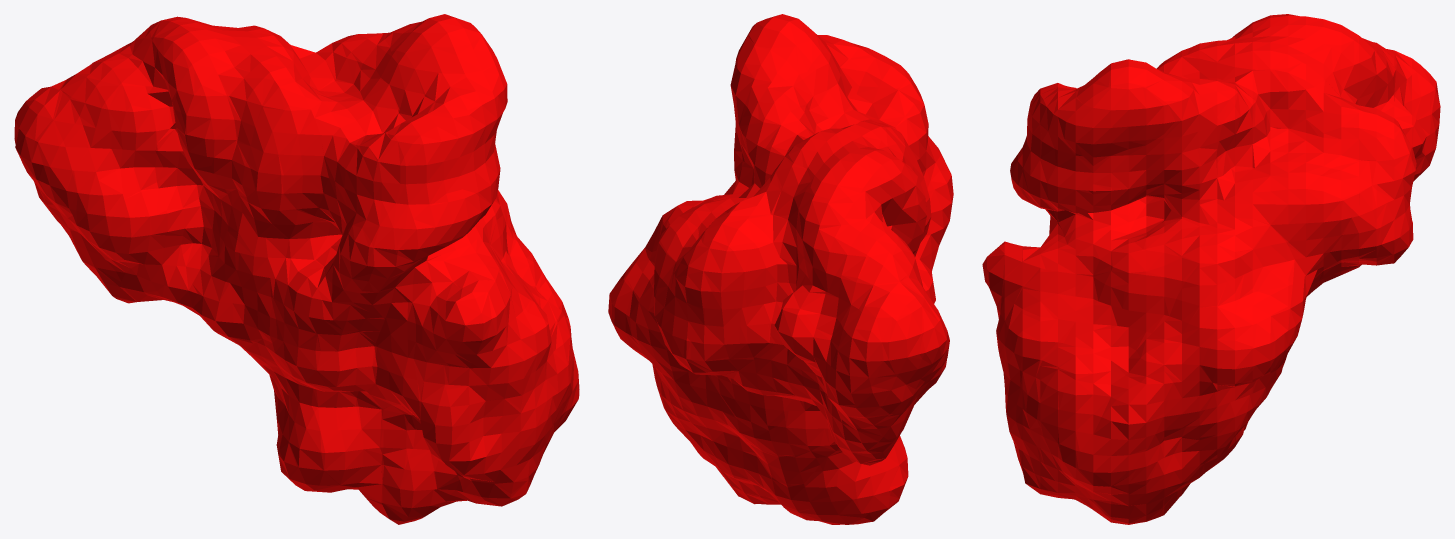
File: cysS_coarse.dae
The picture shows the model from 3 angles, left to right: view 1: azimuth 30°, elevation 25°; view 2: azimuth 150°, elevation 25°; view 3: azimuth 270°, elevation 25°; orthographic projection. The views are drawn at different scales.
Visible parts, largest first — view 1: cysS; view 2: cysS; view 3: cysS.
Boxes of the visible parts, box(x1,y1,x2,y2) form: cysS: box(14, 14, 579, 524); cysS: box(608, 14, 953, 524); cysS: box(982, 14, 1440, 524).
Size of the model in its own units: 74.22 by 82.76 by 76.15.
